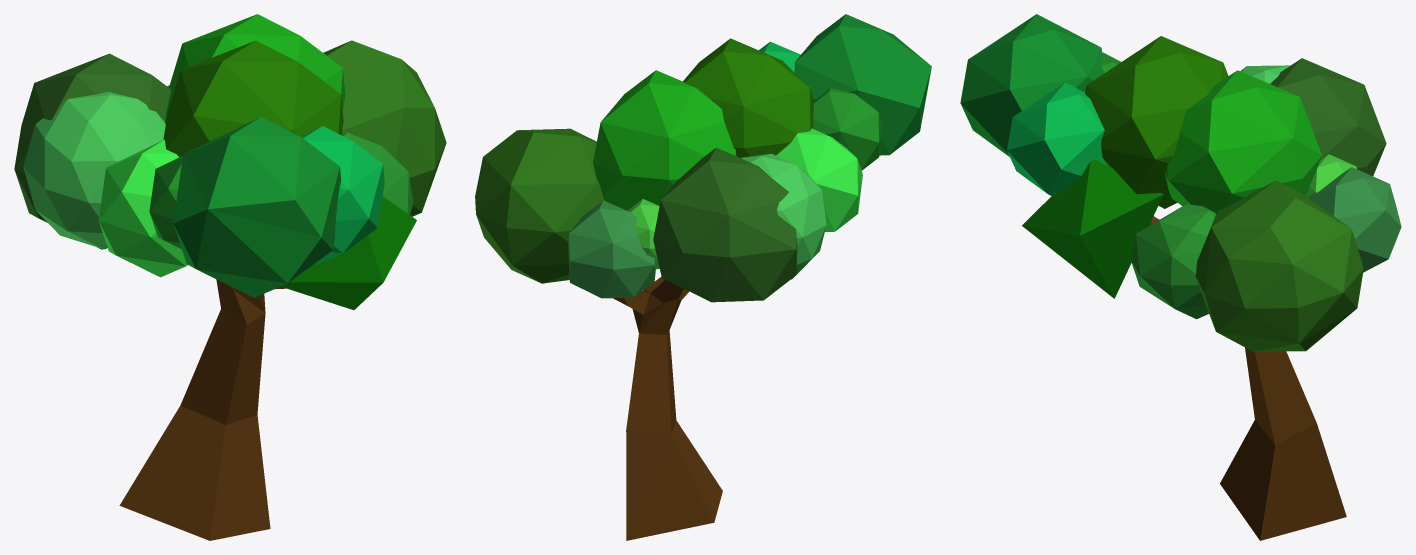
Rendered from tree 1.fbx.
3 renders of one model, left to right at view 1: azimuth 30°, elevation 25°; view 2: azimuth 150°, elevation 25°; view 3: azimuth 270°, elevation 25°, orthographic. The views are drawn at different scales.
Visible parts, largest first — view 1: Icosphere, Cube.001, Icosphere.002, Icosphere.011, Icosphere.007, Icosphere.001, Icosphere.003, Icosphere.005, Icosphere.010, Icosphere.012, Icosphere.009, Icosphere.004; view 2: Icosphere.003, Cube.001, Icosphere.007, Icosphere.012, Icosphere, Icosphere.011, Icosphere.006, Icosphere.001, Icosphere.002, Icosphere.009, Icosphere.008; view 3: Icosphere.007, Icosphere.012, Cube.001, Icosphere.011, Icosphere, Icosphere.005, Icosphere.010, Icosphere.003, Icosphere.004, Icosphere.006, Icosphere.008, Icosphere.002.
Part boxes in pixels (x1=…): Icosphere: x1=173, y1=116, x2=341, y2=297; Cube.001: x1=119, y1=279, x2=286, y2=540; Icosphere.002: x1=23, y1=92, x2=165, y2=249; Icosphere.011: x1=163, y1=40, x2=343, y2=157; Icosphere.007: x1=323, y1=40, x2=446, y2=216; Icosphere.001: x1=98, y1=139, x2=187, y2=277; Icosphere.003: x1=14, y1=53, x2=171, y2=249; Icosphere.005: x1=281, y1=196, x2=416, y2=309; Icosphere.010: x1=301, y1=126, x2=384, y2=264; Icosphere.012: x1=165, y1=14, x2=345, y2=124; Icosphere.009: x1=149, y1=156, x2=182, y2=248; Icosphere.004: x1=341, y1=132, x2=413, y2=214; Icosphere.003: x1=653, y1=147, x2=797, y2=302; Cube.001: x1=539, y1=221, x2=722, y2=540; Icosphere.007: x1=475, y1=128, x2=604, y2=283; Icosphere.012: x1=593, y1=70, x2=736, y2=210; Icosphere: x1=794, y1=14, x2=931, y2=155; Icosphere.011: x1=683, y1=38, x2=814, y2=157; Icosphere.006: x1=568, y1=200, x2=655, y2=298; Icosphere.001: x1=776, y1=128, x2=862, y2=231; Icosphere.002: x1=741, y1=153, x2=826, y2=279; Icosphere.009: x1=813, y1=88, x2=882, y2=170; Icosphere.008: x1=627, y1=199, x2=659, y2=269; Icosphere.007: x1=1195, y1=180, x2=1363, y2=351; Icosphere.012: x1=1165, y1=70, x2=1321, y2=213; Cube.001: x1=1149, y1=216, x2=1346, y2=540; Icosphere.011: x1=1085, y1=36, x2=1228, y2=208; Icosphere: x1=960, y1=14, x2=1104, y2=156; Icosphere.005: x1=1022, y1=159, x2=1163, y2=298; Icosphere.010: x1=1007, y1=82, x2=1107, y2=196; Icosphere.003: x1=1270, y1=58, x2=1386, y2=176; Icosphere.004: x1=1131, y1=203, x2=1215, y2=319; Icosphere.006: x1=1308, y1=167, x2=1401, y2=272; Icosphere.008: x1=1306, y1=154, x2=1356, y2=196; Icosphere.002: x1=1240, y1=65, x2=1290, y2=83.
Size of the model in its own units: 134 by 171 by 148.
